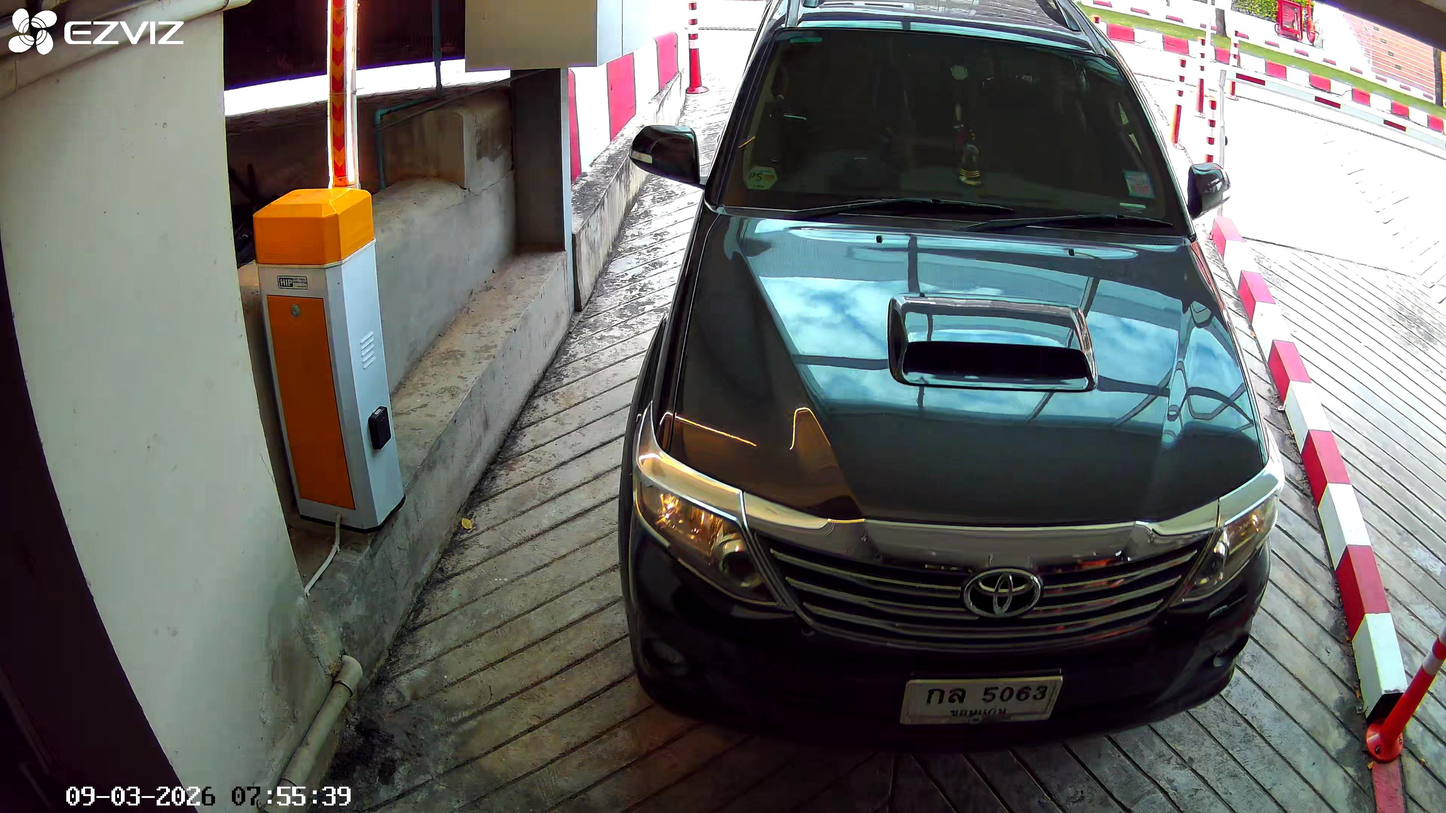car: (616, 3, 1280, 737)
license-plate: (895, 666, 1068, 730)
